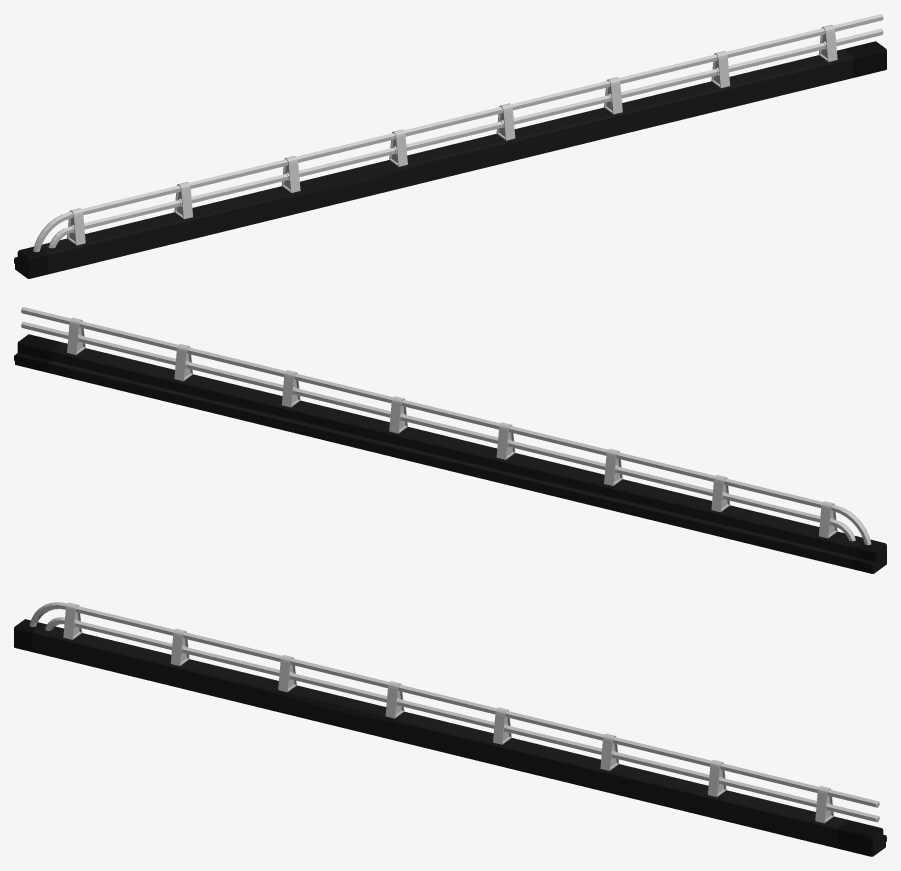
File: Highway_Segment_Rail.fbx
The picture shows the model from 3 angles, top to bottom: view 1: azimuth 30°, elevation 25°; view 2: azimuth 150°, elevation 25°; view 3: azimuth 330°, elevation 25°; orthographic projection.
Parts seen in each view (by area): view 1: SM_City_Highway_Segment_Rail_01b.mo; view 2: SM_City_Highway_Segment_Rail_01b.mo; view 3: SM_City_Highway_Segment_Rail_01b.mo.
Boxes of the visible parts, box(x1,y1,x2,y2) form: SM_City_Highway_Segment_Rail_01b.mo: box(14, 14, 886, 278); SM_City_Highway_Segment_Rail_01b.mo: box(14, 307, 886, 573); SM_City_Highway_Segment_Rail_01b.mo: box(14, 602, 886, 856).
Size of the model in its own units: 2000 by 116 by 61.3.
